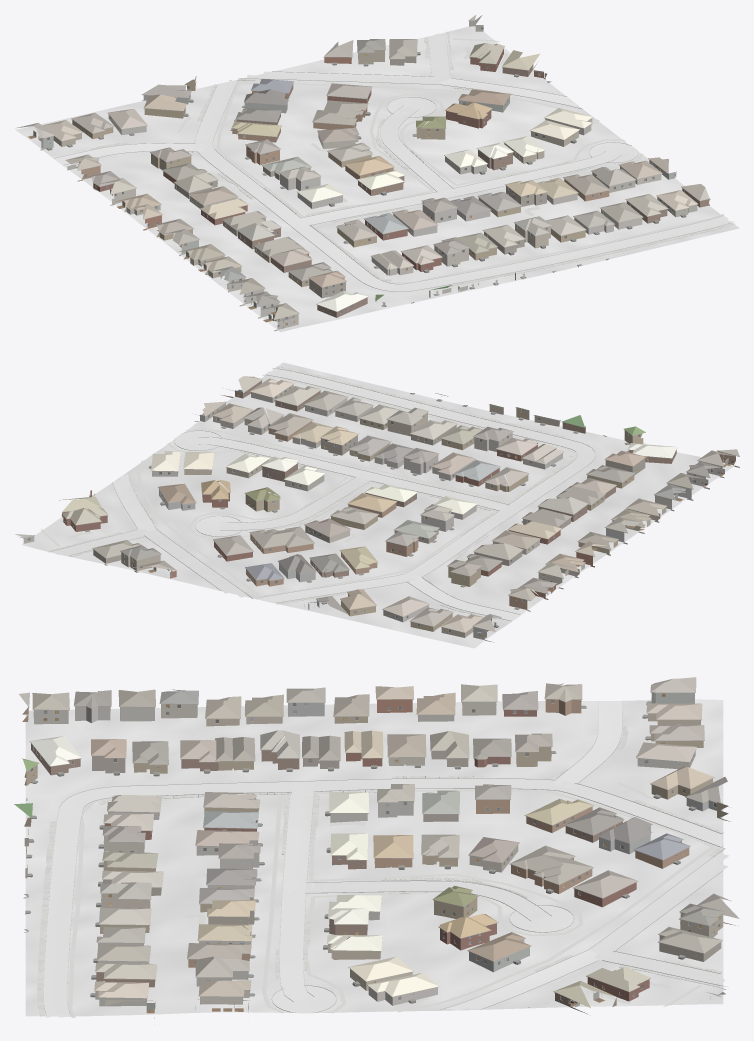
3 renders of one model, top to bottom at view 1: azimuth 30°, elevation 25°; view 2: azimuth 150°, elevation 25°; view 3: azimuth 270°, elevation 25°, orthographic. The views are drawn at different scales.
Parts seen in each view (by area): view 1: ground, roof, concrete, wall, walk, detail, wall_stucco, curb, wall_stone, glass; view 2: ground, roof, concrete, wall, walk, detail, wall_stucco, curb, wall_stone, glass; view 3: ground, roof, concrete, wall, walk, wall_stucco, detail, wall_stone, curb, glass.
Part boxes in pixels (<box>): ground: <box>15,26,739,332</box>; roof: <box>15,15,709,321</box>; concrete: <box>54,33,733,291</box>; wall: <box>53,49,709,317</box>; walk: <box>90,31,734,288</box>; detail: <box>31,20,710,329</box>; wall_stucco: <box>40,20,697,292</box>; curb: <box>54,32,734,291</box>; wall_stone: <box>108,114,613,331</box>; glass: <box>47,27,685,327</box>; ground: <box>22,362,735,648</box>; roof: <box>15,376,739,632</box>; concrete: <box>53,368,594,620</box>; wall: <box>61,380,739,637</box>; walk: <box>41,366,577,613</box>; detail: <box>25,376,739,637</box>; wall_stucco: <box>23,384,674,642</box>; curb: <box>48,368,595,621</box>; wall_stone: <box>152,406,724,622</box>; glass: <box>27,390,733,632</box>; ground: <box>25,699,723,1016</box>; roof: <box>14,677,739,1007</box>; concrete: <box>43,701,728,1017</box>; wall: <box>22,699,735,1018</box>; walk: <box>37,726,724,1017</box>; wall_stucco: <box>95,692,722,1012</box>; detail: <box>23,692,725,1009</box>; wall_stone: <box>33,706,695,1005</box>; curb: <box>43,701,726,1016</box>; glass: <box>31,699,719,999</box>.
Size of the model in its own units: 265 by 17.34 by 260.
